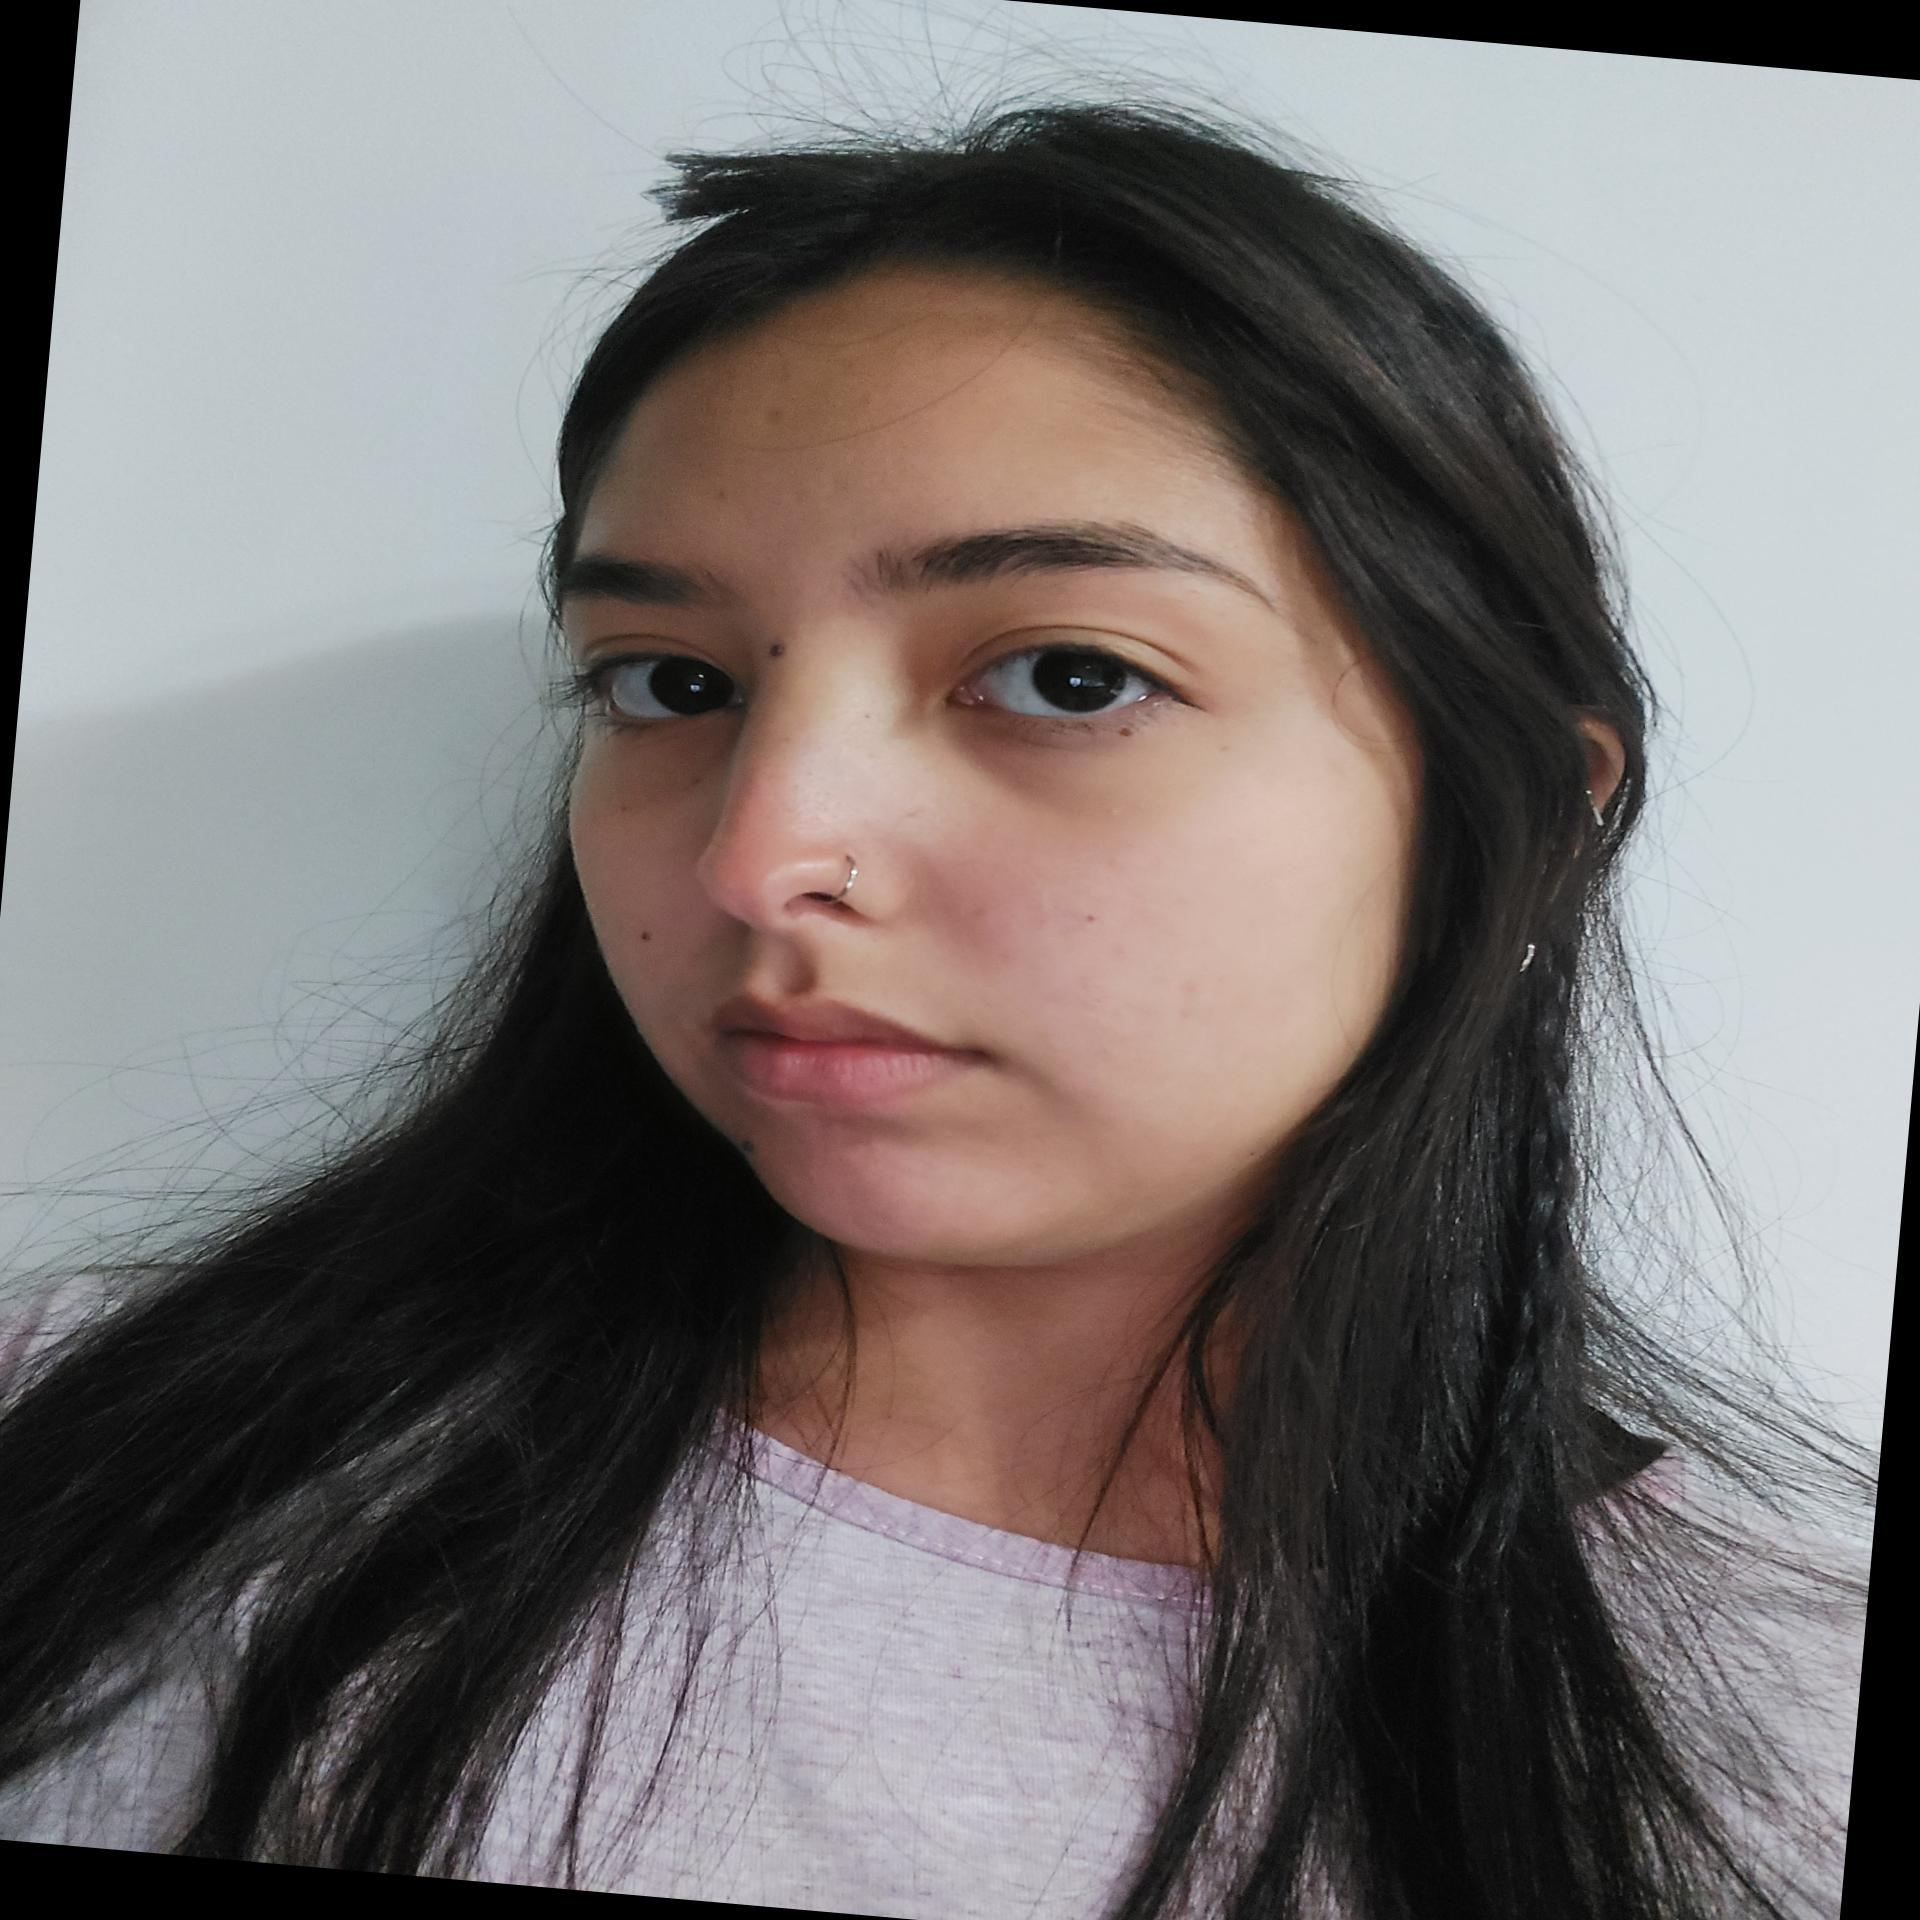Acne: (1071, 905, 1115, 935)
Englarged Pores: (763, 760, 890, 847)
